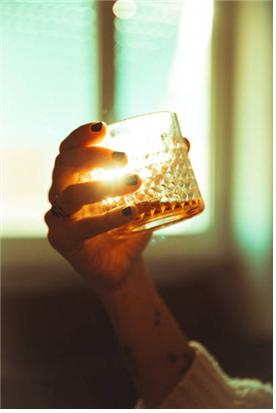alcohol: (86, 110, 206, 238)
